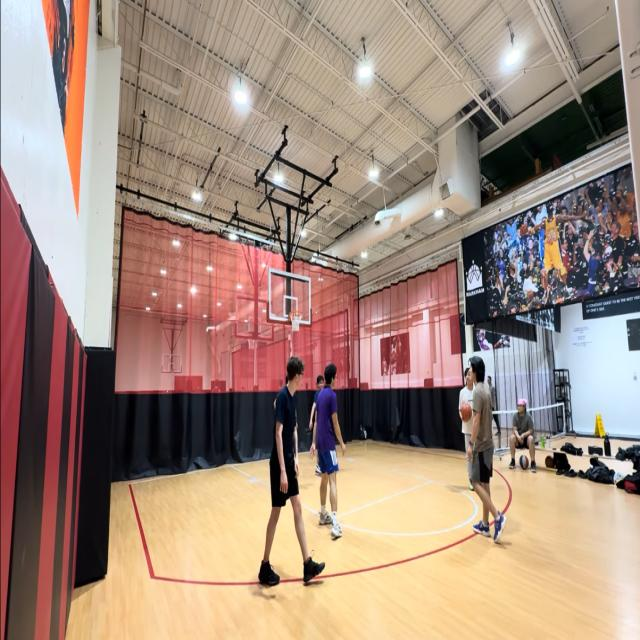Basketball: (461, 404, 472, 422)
Basketball Rim: (290, 311, 302, 330)
